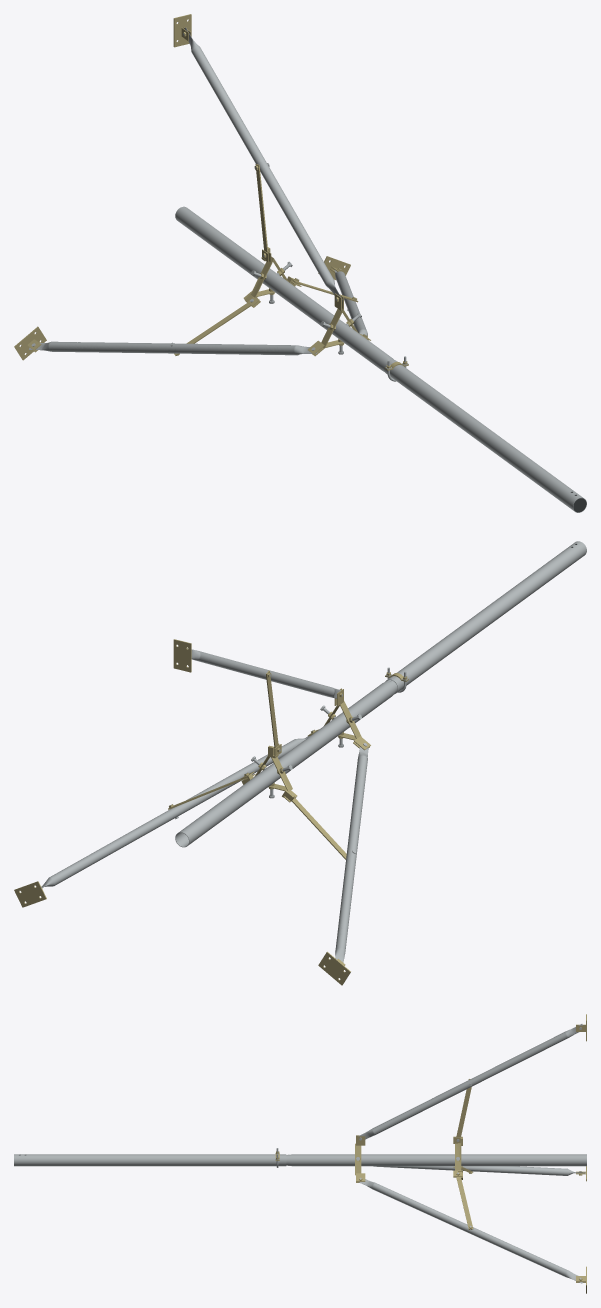
File: weather_mtpb_incomplete.glb
3 views of the same model, one above another, from view 1: azimuth 30°, elevation 25°; view 2: azimuth 150°, elevation 25°; view 3: azimuth 270°, elevation 25° (orthographic). The views are drawn at different scales.
Visible parts, largest first — view 1: lower_mast_with_indexing_creases, upper_mast_with_dimple_and_crossarm_holes, leg_1, leg_2, lower_brace_clamp_triangular_band, upper_leg_clamp_triangular_band, leg_3; view 2: lower_mast_with_indexing_creases, upper_mast_with_dimple_and_crossarm_holes, leg_3, leg_2, leg_1, lower_brace_clamp_triangular_band, upper_leg_clamp_triangular_band; view 3: lower_mast_with_indexing_creases, upper_mast_with_dimple_and_crossarm_holes, leg_1, leg_3, leg_2, upper_leg_clamp_triangular_band.
Part boxes in pixels (x1=…): lower_mast_with_indexing_creases: x1=175, y1=206, x2=393, y2=371; upper_mast_with_dimple_and_crossarm_holes: x1=384, y1=359, x2=586, y2=512; leg_1: x1=185, y1=27, x2=342, y2=301; leg_2: x1=29, y1=341, x2=317, y2=355; lower_brace_clamp_triangular_band: x1=243, y1=247, x2=302, y2=307; upper_leg_clamp_triangular_band: x1=307, y1=293, x2=370, y2=356; leg_3: x1=334, y1=269, x2=368, y2=340; lower_mast_with_indexing_creases: x1=175, y1=680, x2=397, y2=847; upper_mast_with_dimple_and_crossarm_holes: x1=385, y1=541, x2=586, y2=694; leg_3: x1=41, y1=735, x2=310, y2=887; leg_2: x1=335, y1=747, x2=368, y2=962; leg_1: x1=187, y1=648, x2=340, y2=698; lower_brace_clamp_triangular_band: x1=241, y1=743, x2=297, y2=802; upper_leg_clamp_triangular_band: x1=307, y1=688, x2=370, y2=750; lower_mast_with_indexing_creases: x1=286, y1=1154, x2=586, y2=1166; upper_mast_with_dimple_and_crossarm_holes: x1=14, y1=1154, x2=286, y2=1166; leg_1: x1=358, y1=1024, x2=582, y2=1139; leg_3: x1=358, y1=1179, x2=582, y2=1283; leg_2: x1=373, y1=1166, x2=584, y2=1175; upper_leg_clamp_triangular_band: x1=355, y1=1135, x2=365, y2=1182.
Size of the model in its own units: 0.9776 by 0.8467 by 2.
